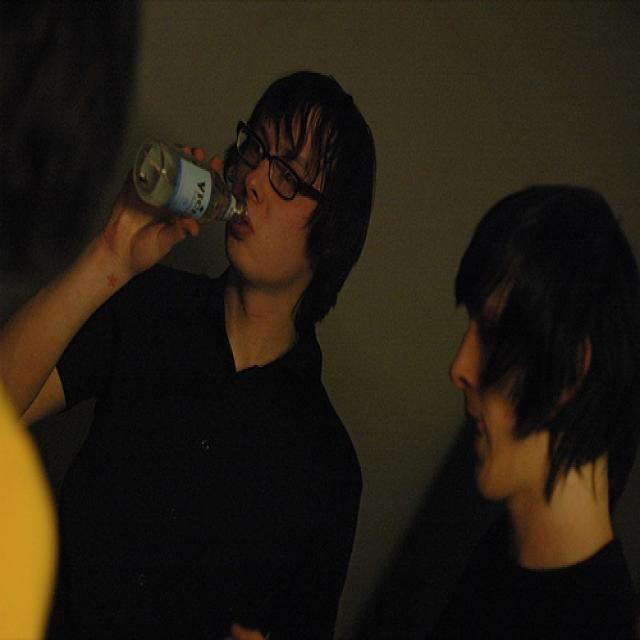Bottle: (102, 110, 240, 241)
People: (44, 82, 390, 640), (435, 165, 640, 640)
